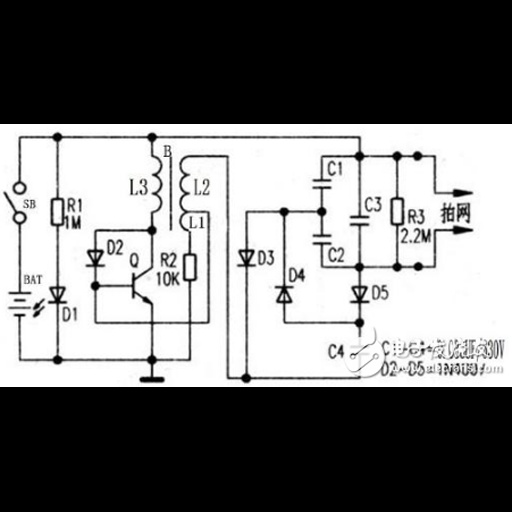battery: (5, 289, 32, 325)
capacitor: (308, 176, 337, 194), (345, 213, 374, 230), (306, 231, 335, 247)
firstresistance: (386, 193, 407, 228), (46, 195, 65, 231), (181, 250, 199, 285)
npn: (120, 267, 156, 311)
seconddiode: (78, 245, 105, 270), (346, 282, 371, 308), (270, 283, 297, 306), (236, 247, 258, 272)
secondled: (34, 284, 68, 320)
transformer: (149, 154, 190, 232)
